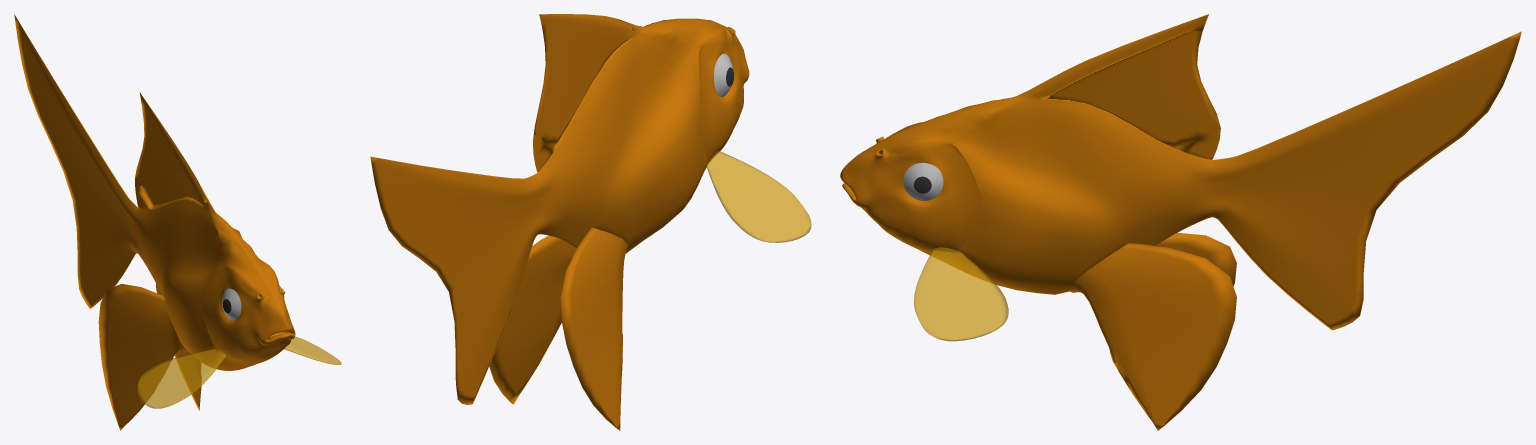
File: goldfish.glb
3 views of the same model, side by side, from view 1: azimuth 30°, elevation 25°; view 2: azimuth 150°, elevation 25°; view 3: azimuth 270°, elevation 25° (orthographic). The views are drawn at different scales.
Parts seen in each view (by area): view 1: Layer:GFISH_SCALES, Layer:GFISH_FINS, Layer:GFISH_EI; view 2: Layer:GFISH_SCALES, Layer:GFISH_FINS, Layer:GFISH_EI; view 3: Layer:GFISH_SCALES, Layer:GFISH_FINS, Layer:GFISH_EI.
Part boxes in pixels (x1,y1,x2,y2): Layer:GFISH_SCALES: (14,14,295,430); Layer:GFISH_FINS: (137,336,341,408); Layer:GFISH_EI: (222,285,284,320); Layer:GFISH_SCALES: (370,14,749,430); Layer:GFISH_FINS: (706,151,811,242); Layer:GFISH_EI: (714,53,733,96); Layer:GFISH_SCALES: (840,14,1521,430); Layer:GFISH_FINS: (914,247,1008,341); Layer:GFISH_EI: (903,162,943,200).
Size of the model in its own units: 0.0282 by 0.0444 by 0.0699.
